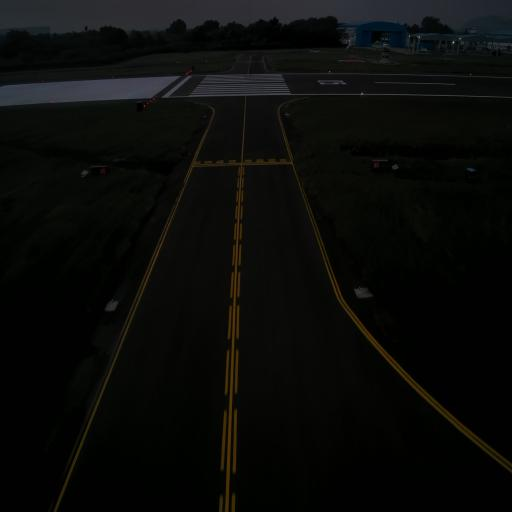on: (110, 295, 116, 307), (358, 283, 363, 293)
